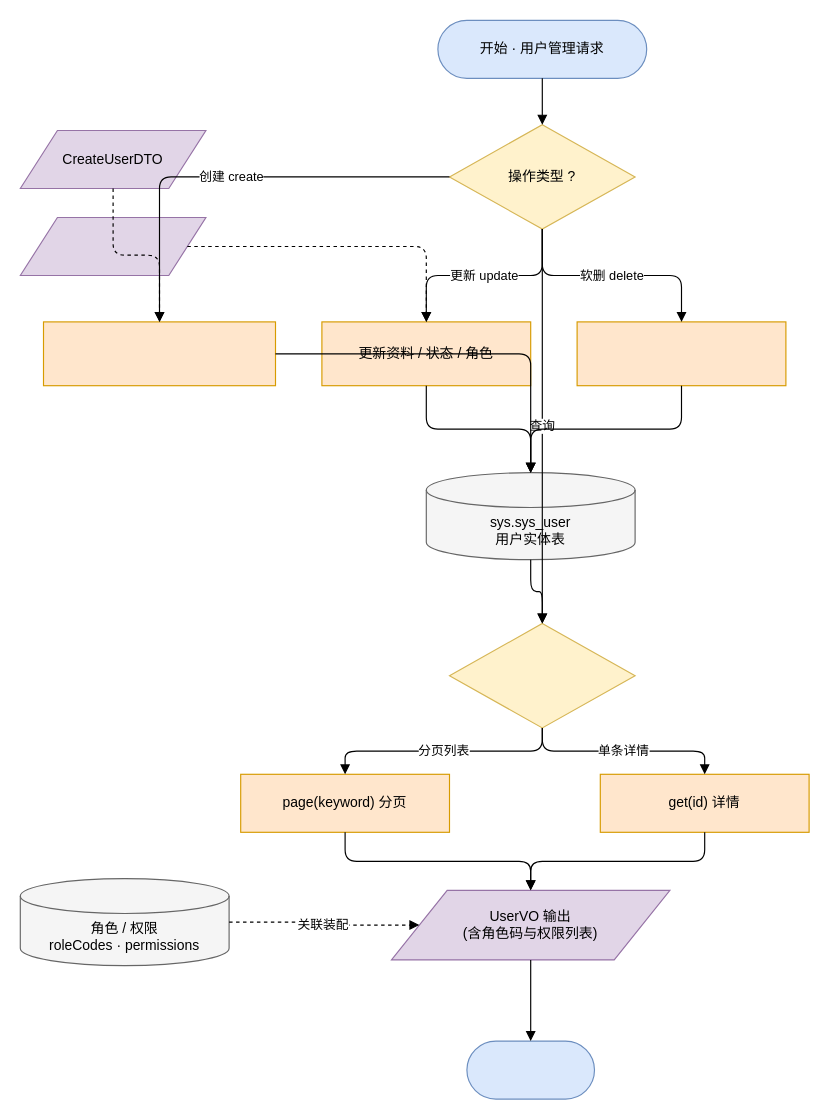
Some shapes in this 829 by 1119 pixel diagram are drawn without their labels. Here are the shapes that lost their labels. From the top down, the box of each, then its label:
(19, 216, 206, 276): UpdateUserDTO
(42, 321, 276, 386): 校验唯一用户名 · 密码加密 分配 roleIds
(576, 321, 786, 386): 置 deleted=true (软删)
(448, 622, 635, 728): 查询场景 ?
(466, 1040, 594, 1099): 结束
